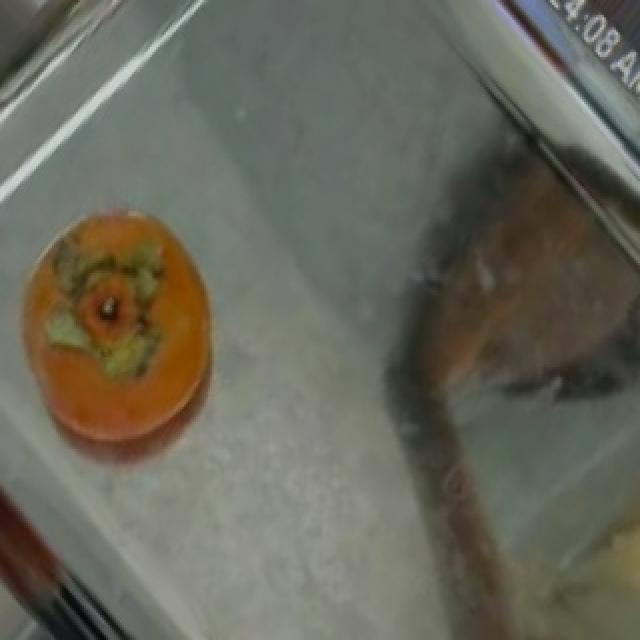Fruit: (2, 181, 240, 486)
